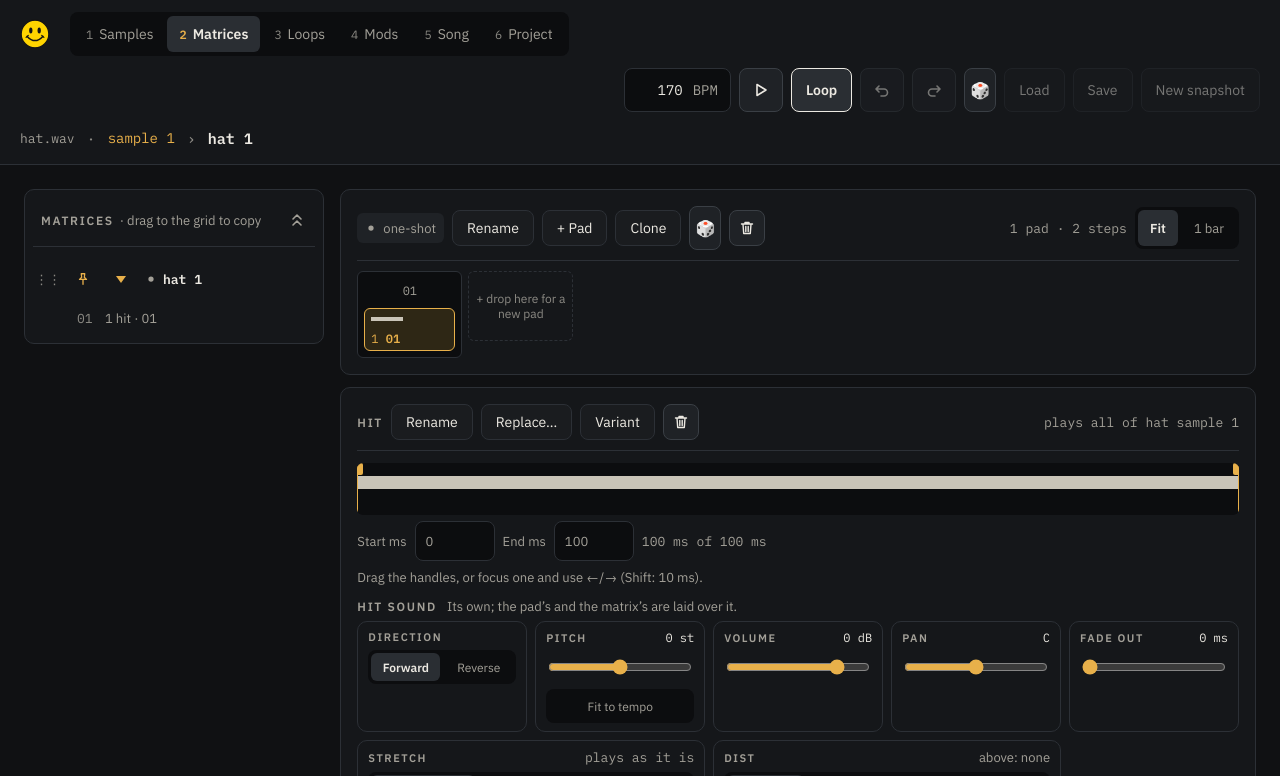
it: channel choice and pan in the GUI › Pads pans a hit
Expected: the element "Pan C" is shown, x1=891 y1=621 x2=1061 y2=732
Set the slider labelled "Pan C" to "-40" at (950, 667), box x1=904 y1=651 x2=1048 y2=683
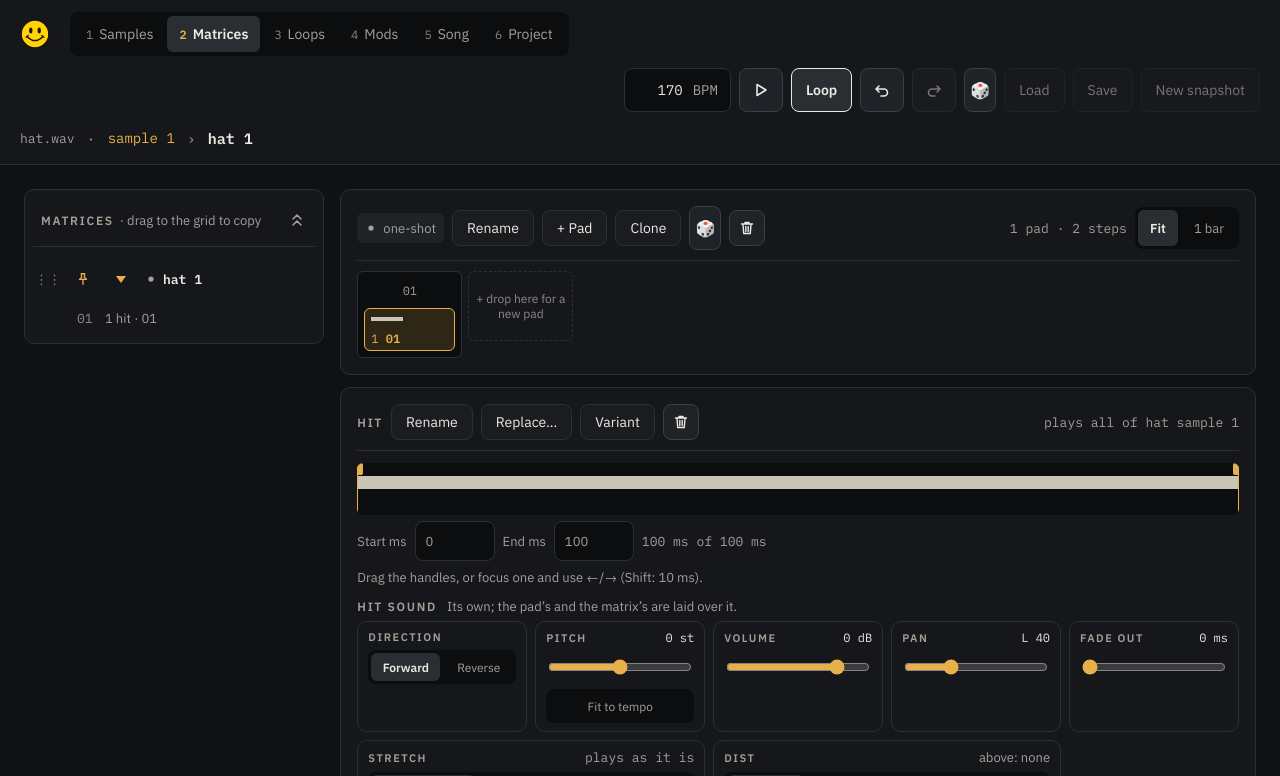
Now the element "Pan L 40" is shown, box x1=891 y1=621 x2=1061 y2=732
